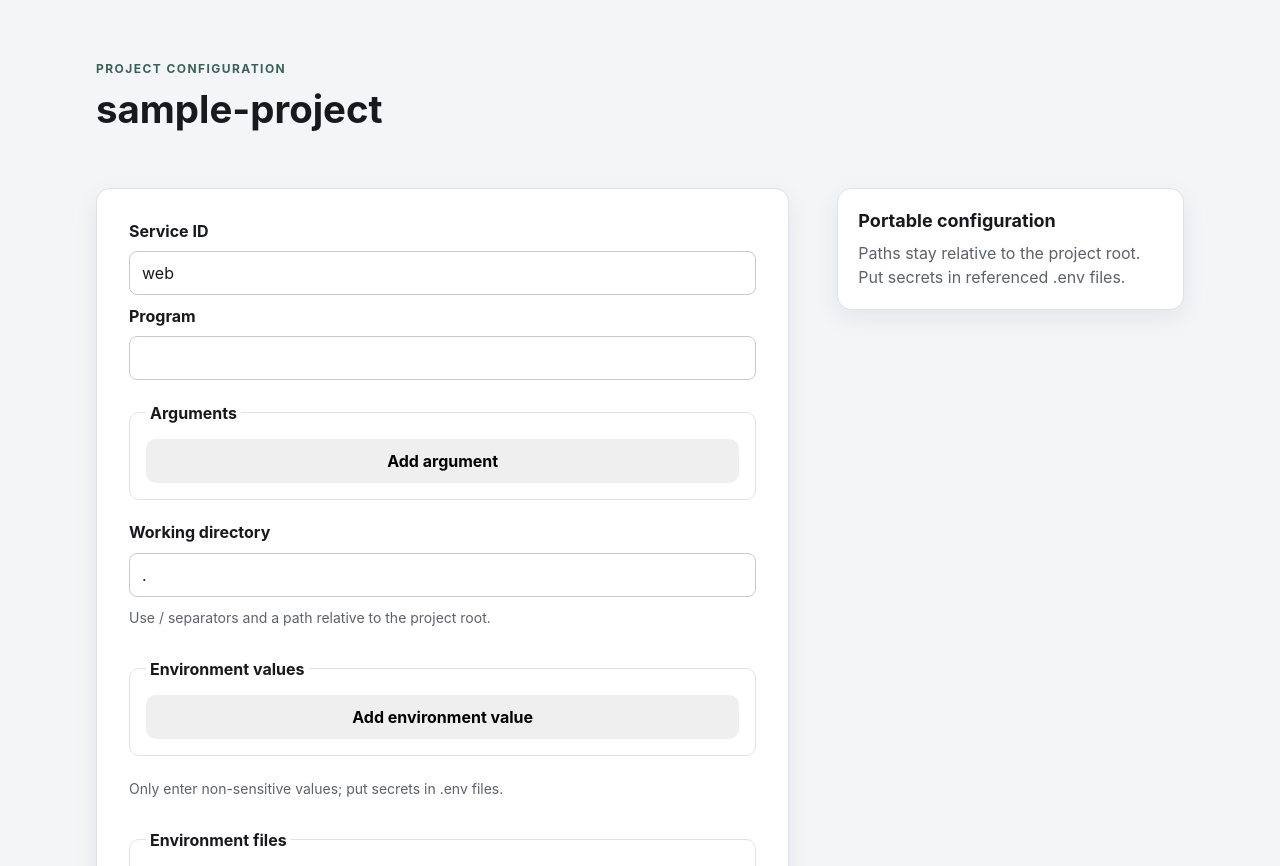
Scenario: falls back to a focused page alert when $.services[0].args[2] has no rendered control
Type "pnpm" into the field labelled "Program" at (443, 358), box [129,336,756,380]
(page scrolled)
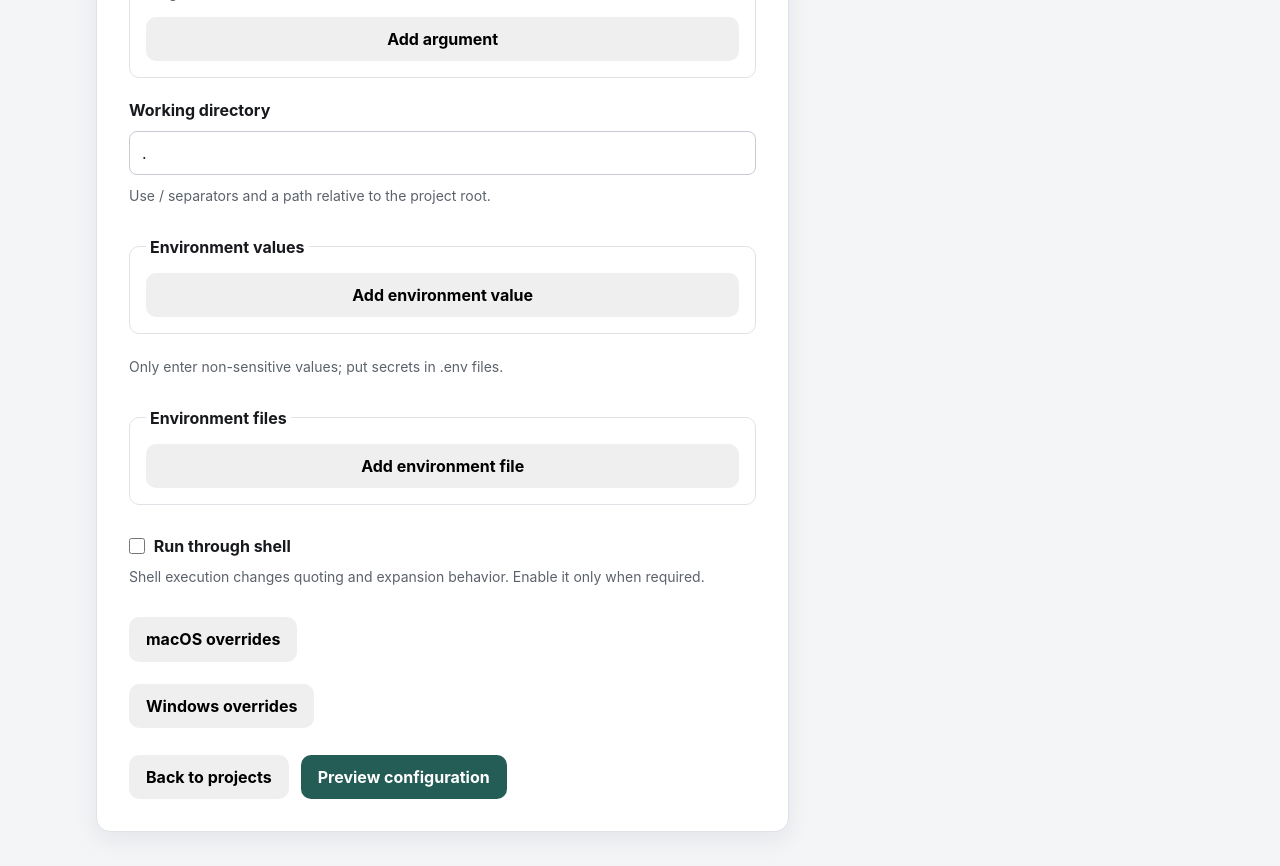
Click the button "Preview configuration" at (404, 777), box [301,755,507,799]
(page scrolled)
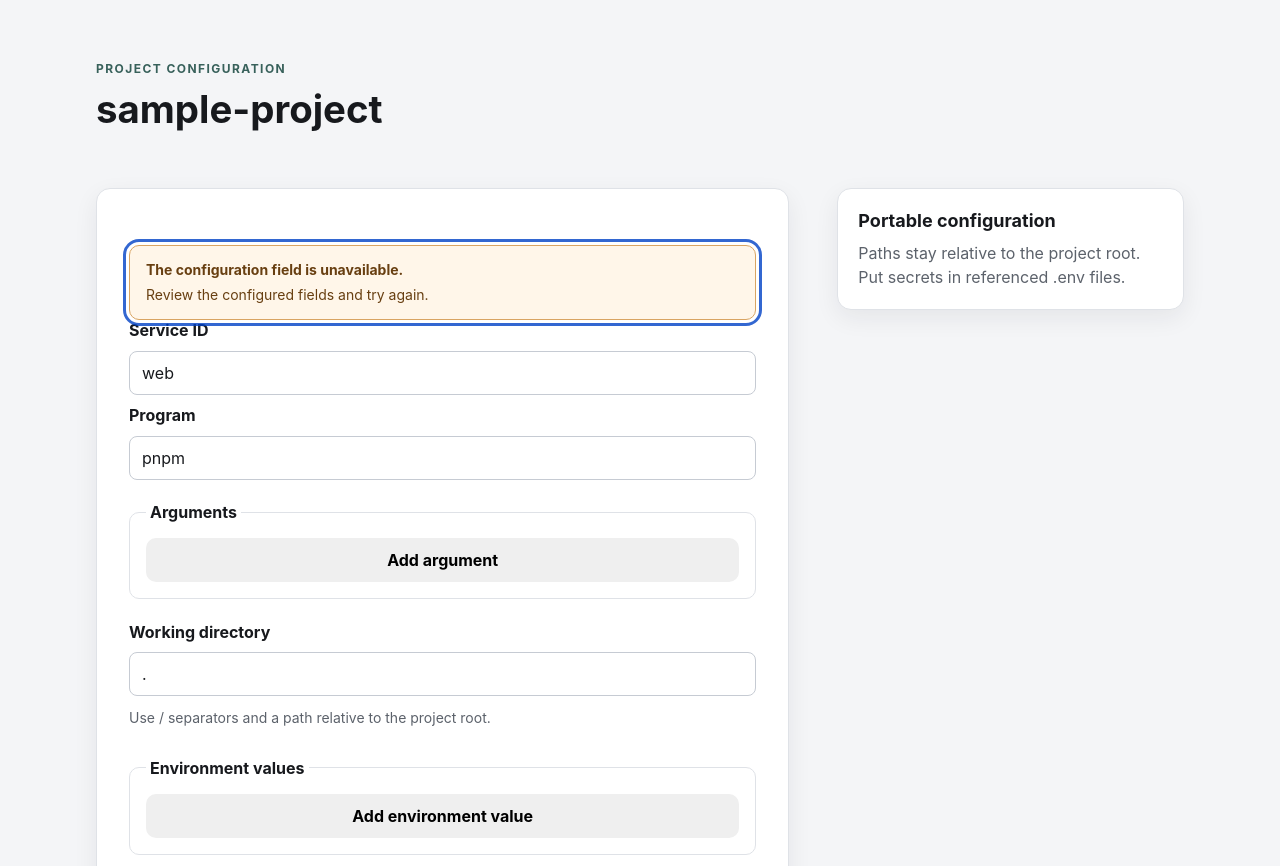
Now the message shows "The configuration field is unavailable.", box [146,262,403,278]
Now the message shows "Review the configured fields and try again.", box [146,286,429,303]
